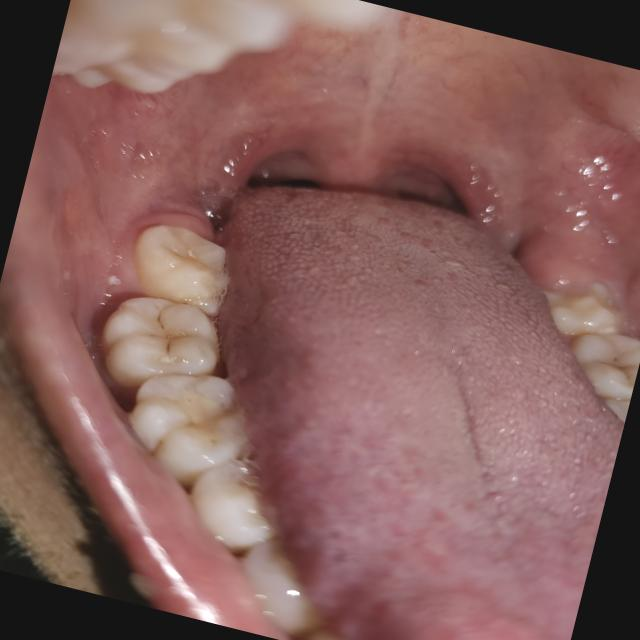caries: (85, 282, 229, 406), (558, 320, 640, 406)
